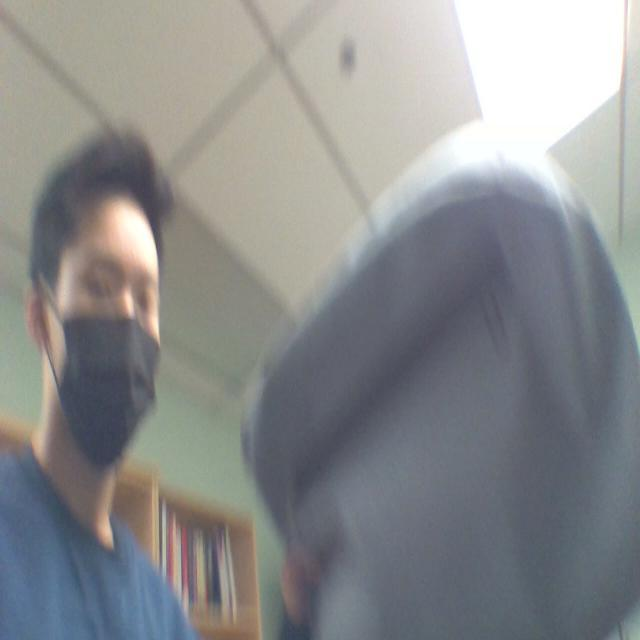Backpacks: (245, 123, 640, 640)
